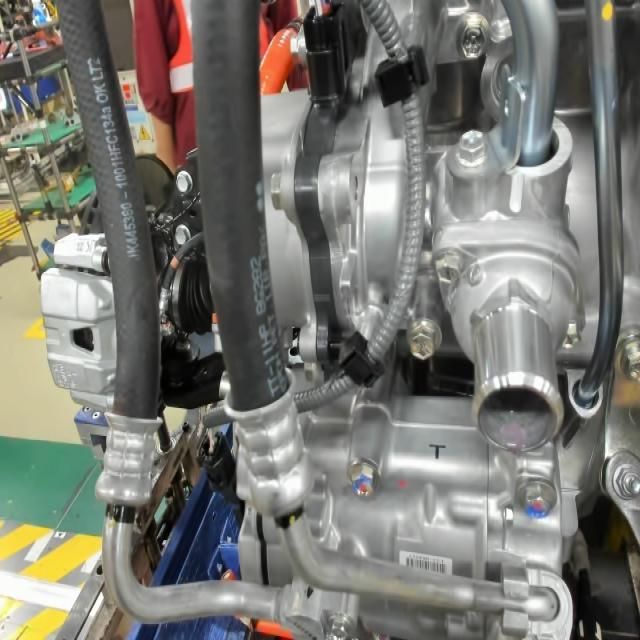Compressor-T: (422, 436, 450, 465)
